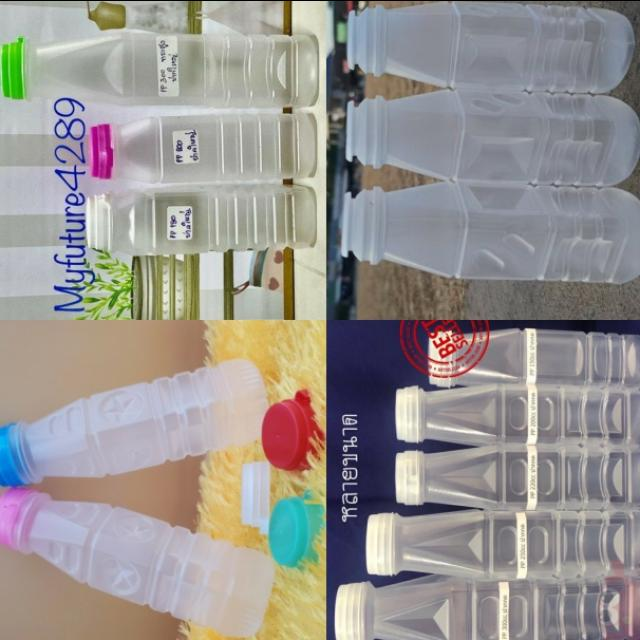plastik: (0, 487, 274, 636), (0, 359, 268, 485), (342, 180, 640, 283), (346, 89, 640, 184), (347, 1, 635, 92), (0, 31, 317, 106), (334, 574, 640, 640), (366, 509, 640, 579), (395, 443, 640, 509), (86, 184, 316, 254), (89, 112, 316, 182), (395, 384, 640, 444), (425, 327, 640, 388)
